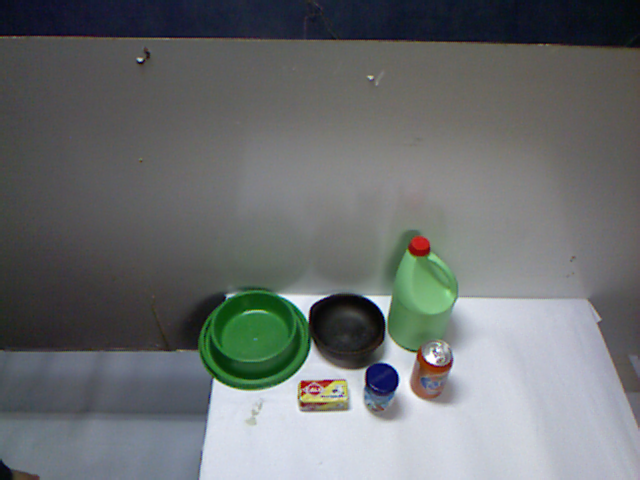azucarero: (296, 335, 354, 399)
cafe: (240, 272, 299, 348)
cera: (305, 227, 361, 340)
colador: (347, 278, 509, 411)
ketchup: (212, 316, 257, 381)
pelota: (260, 360, 300, 402)
